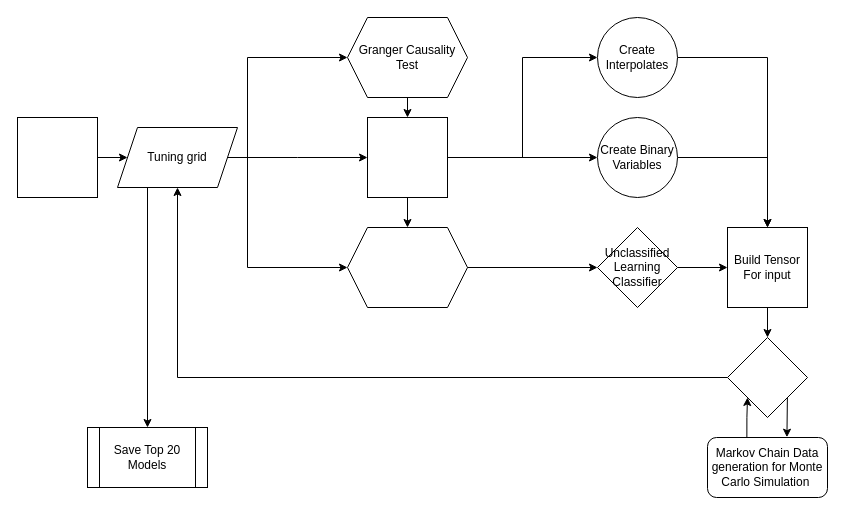
This 845x515 diagram has some shape labels left out. Each missing label, with the centre of its shape:
"Covariance" belongs at pixel 407 267.
"Feature Selection" belongs at pixel 407 157.
"Readin" belongs at pixel 57 157.
"Transformer" belongs at pixel 767 377.
